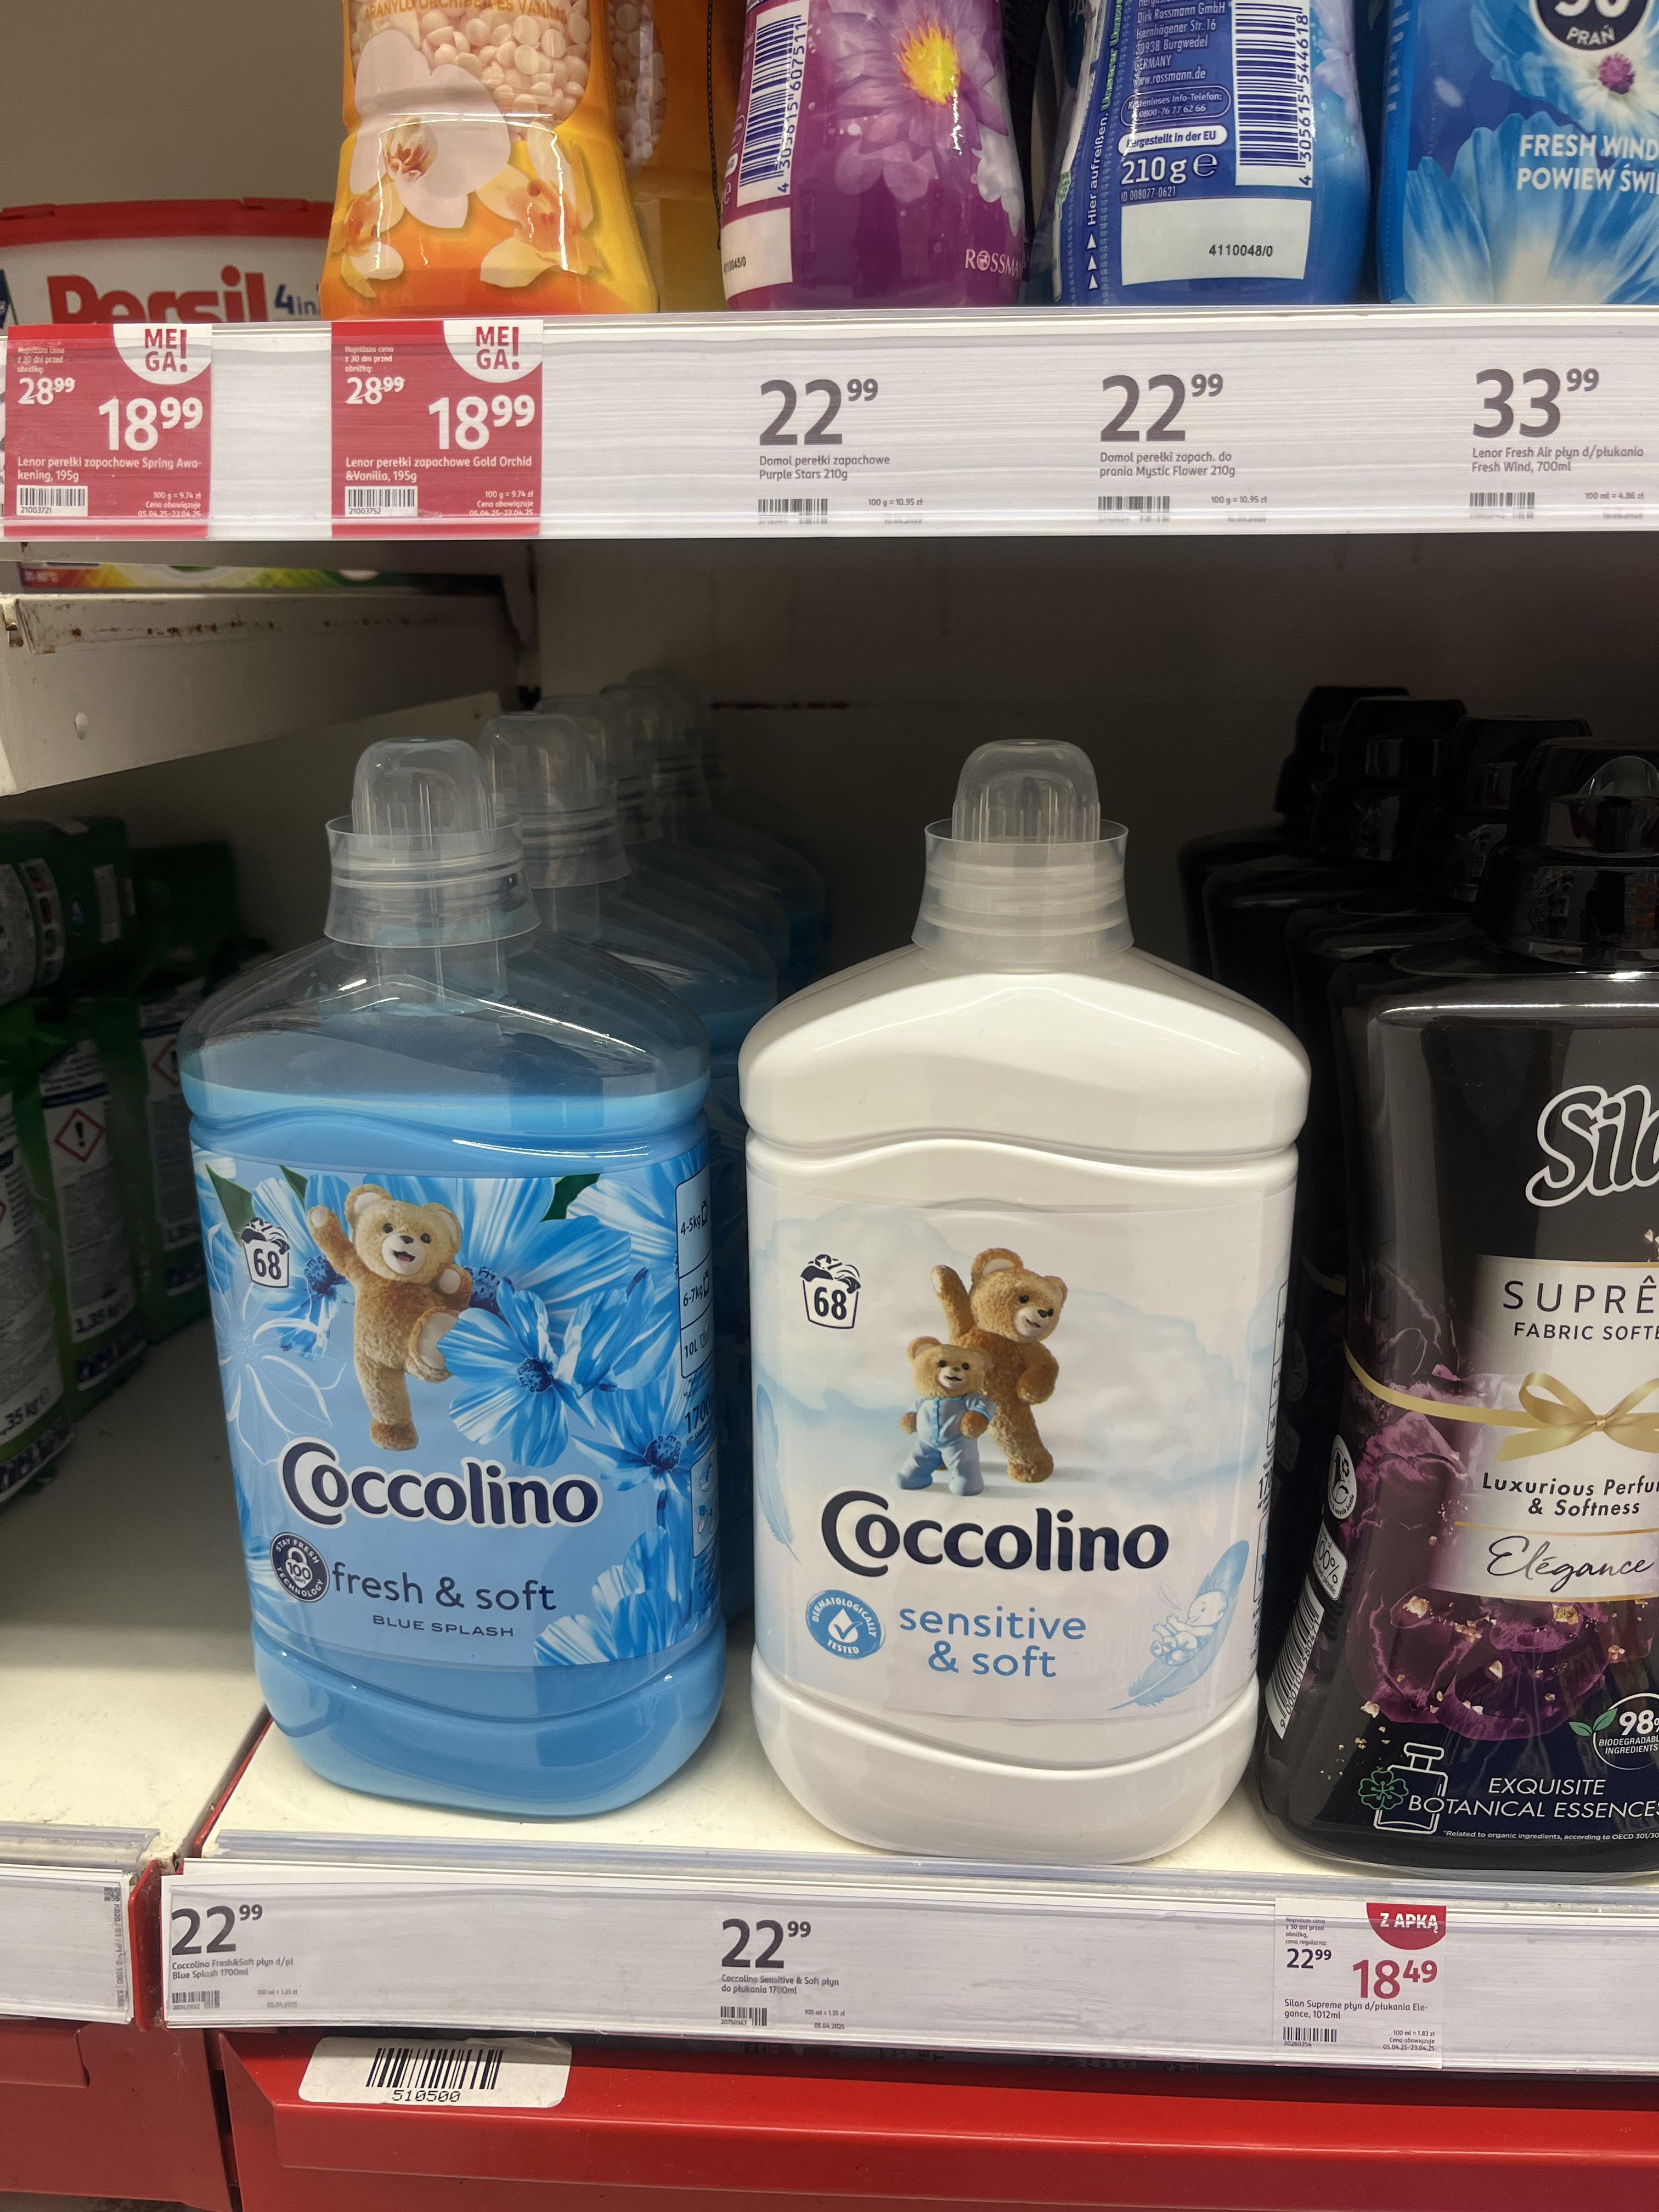cocolino: (706, 948, 1319, 1890), (174, 944, 713, 1797)
